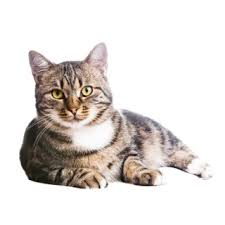Gato: (21, 39, 213, 195)
